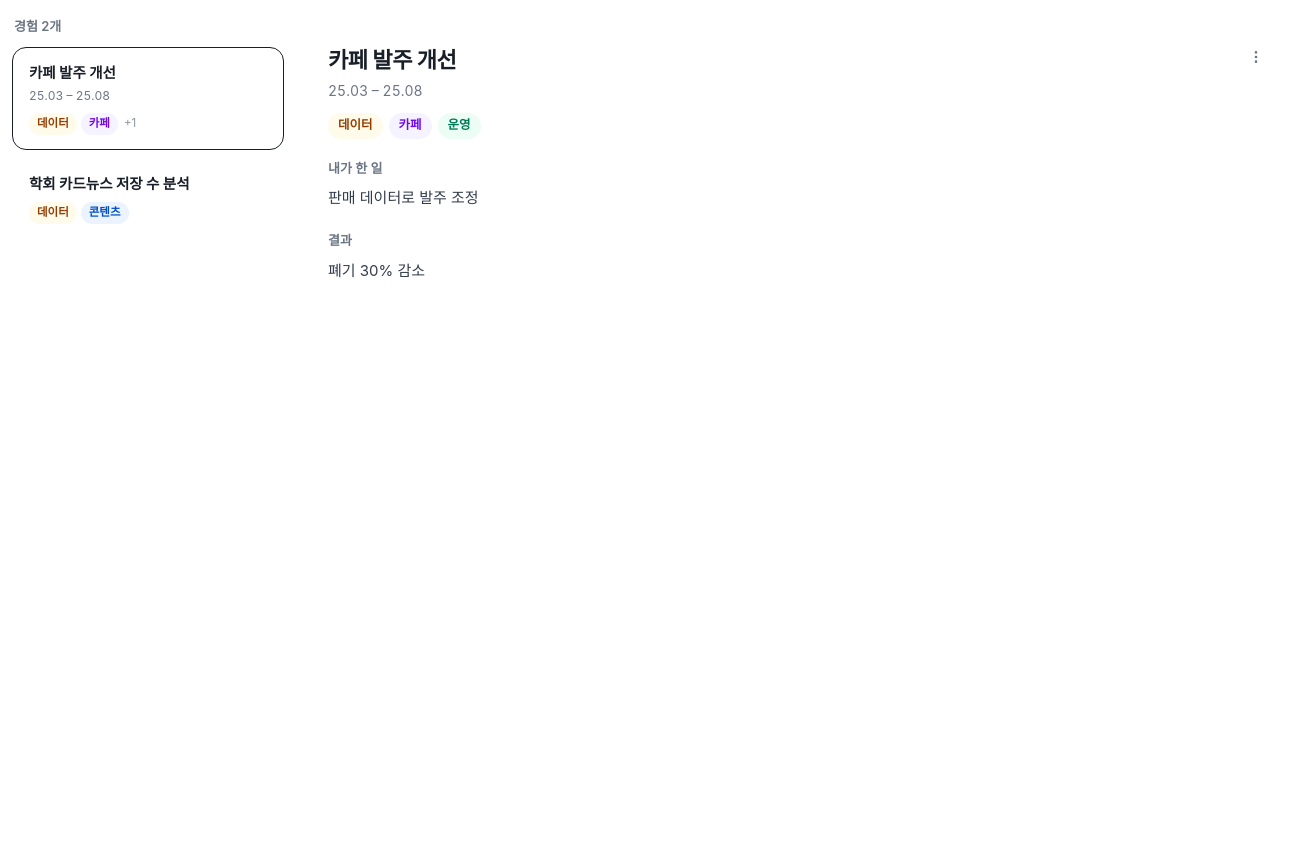
Test case: 내 경험 › 칸으로 쓴 경험을 고치면 칸으로, 자유 글로 쓴 경험은 자유 양식으로 열린다
The image size is (1304, 855).
Click the button named "카페 발주 개선 더보기" at (1256,57), box [1240,41,1272,73]
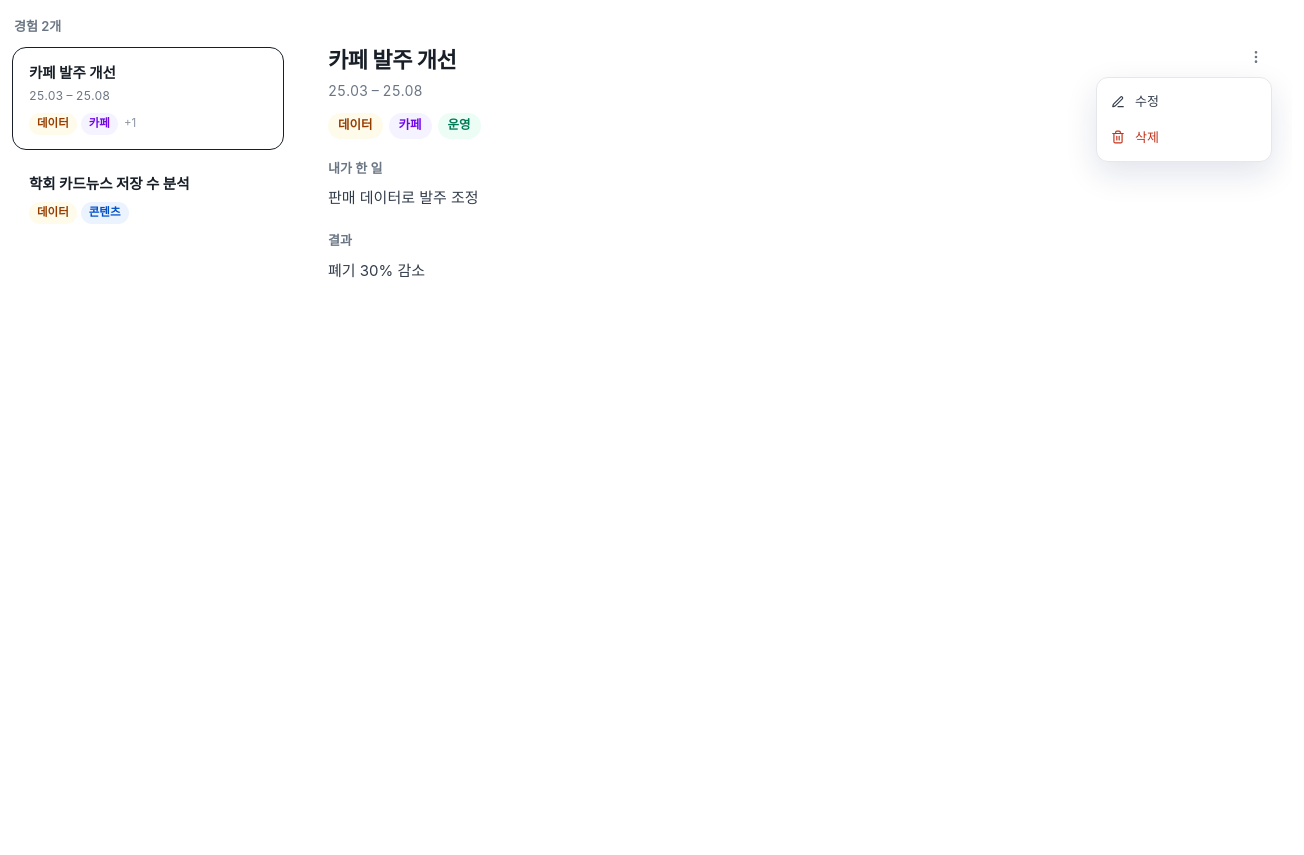
Click the button "수정" at (1184,102), box [1097,84,1271,120]
(page scrolled)
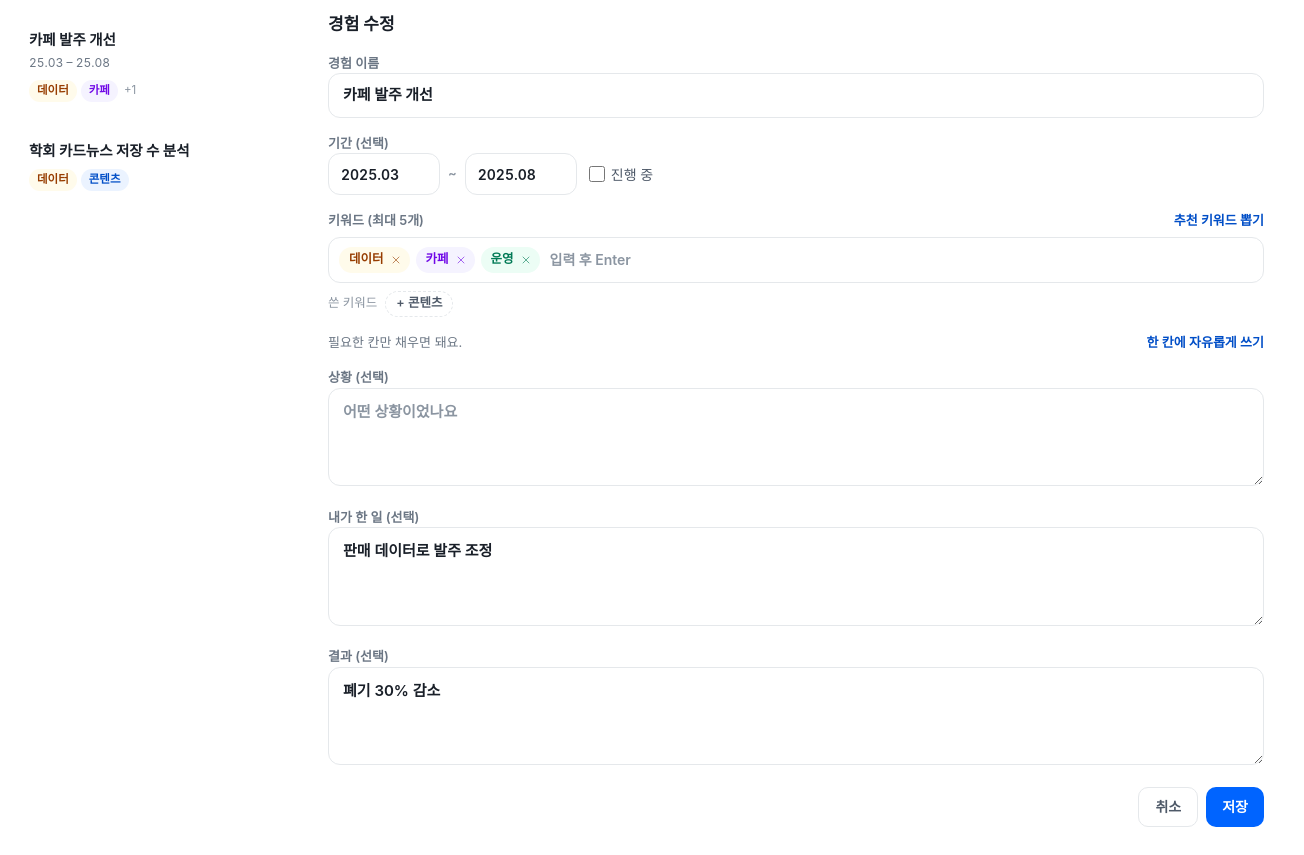
Result: the text box named "나는 무엇을 판단하고 했나요" holds "판매 데이터로 발주 조정" at [328,527,1264,626]
Click the button "취소" at (1168,806), box [1138,786,1198,826]
(page scrolled)
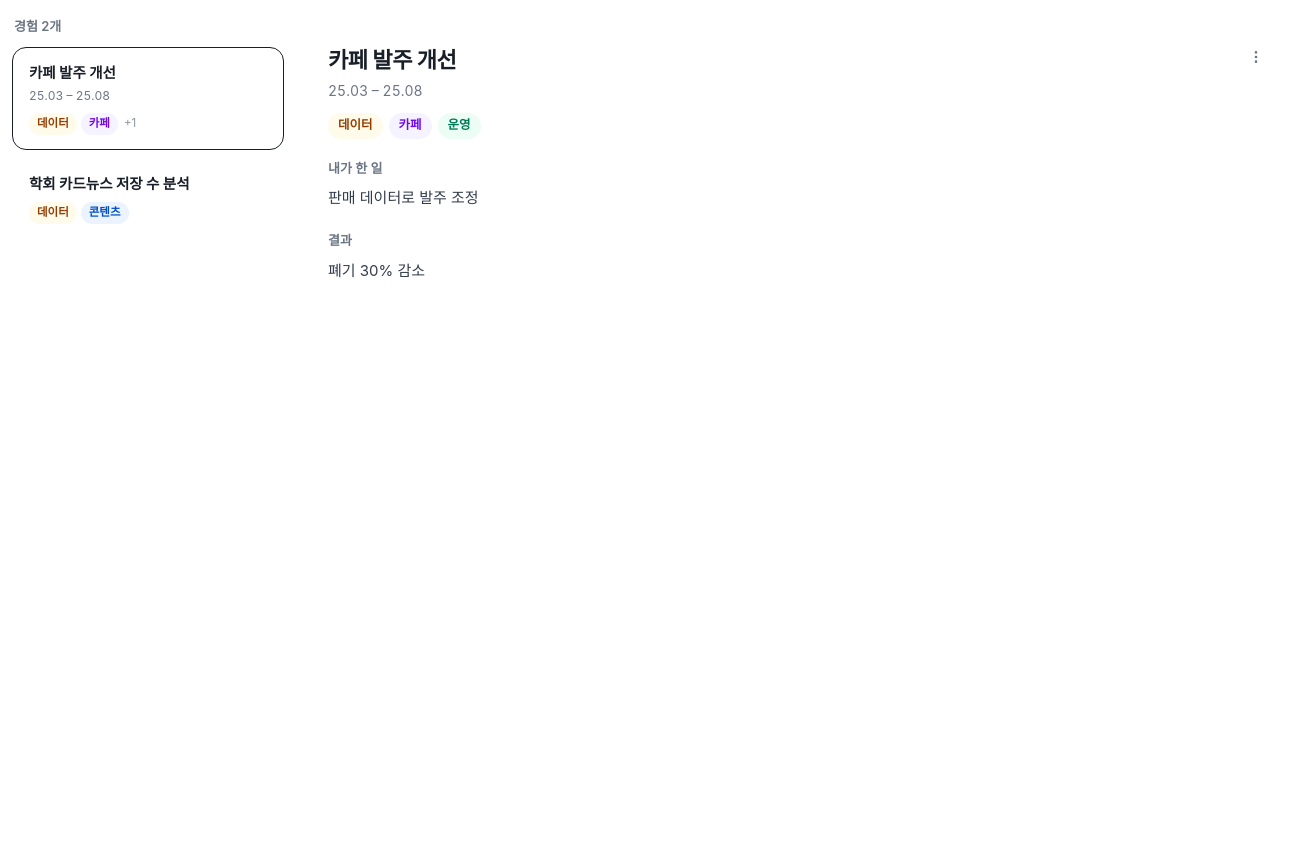
Click the button "학회 카드뉴스 저장 수 분석 데이터 콘텐츠" at (109,183), box [12,158,284,238]
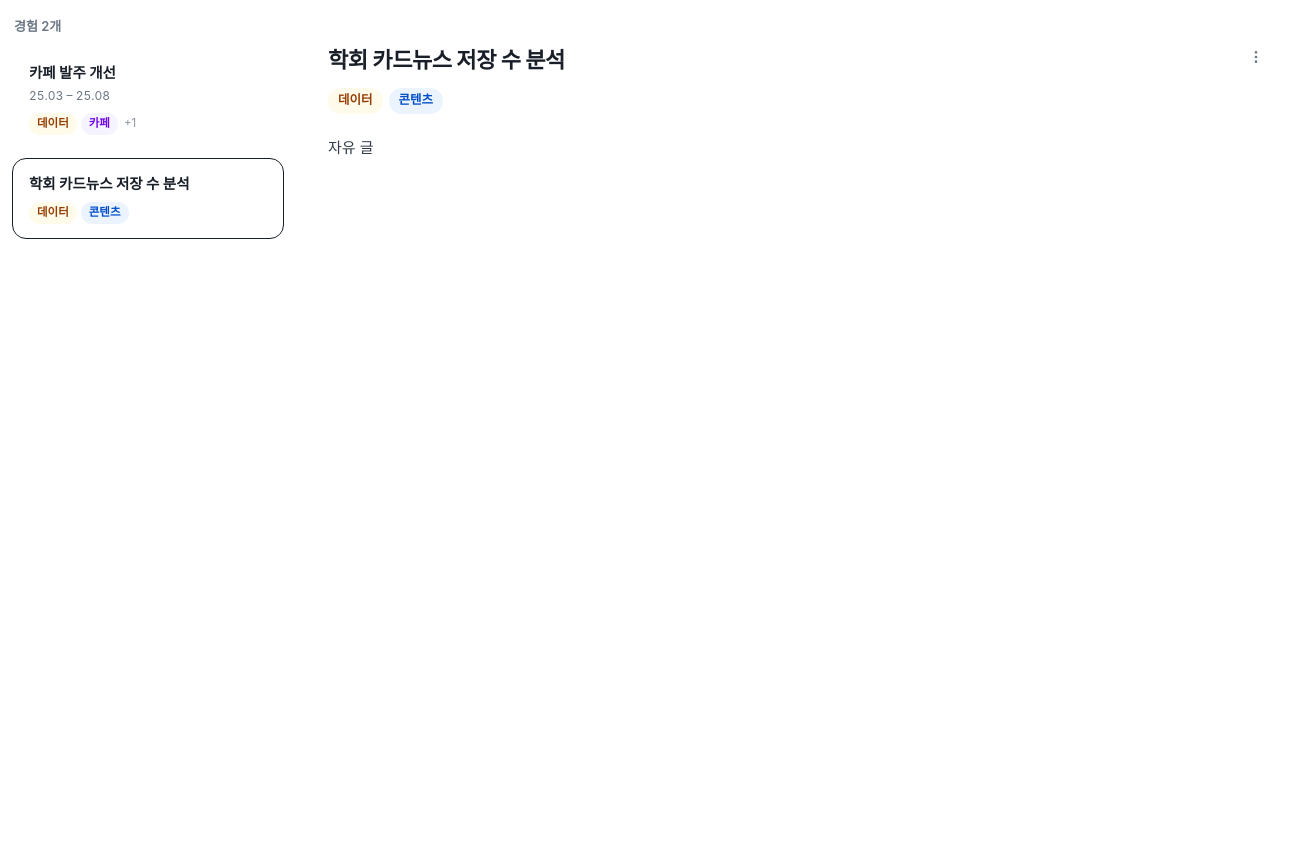
Result: the text "자유 글" is shown at [328,138,374,157]
Click the button named "학회 카드뉴스 저장 수 분석 더보기" at (1256,57), box [1240,41,1272,73]
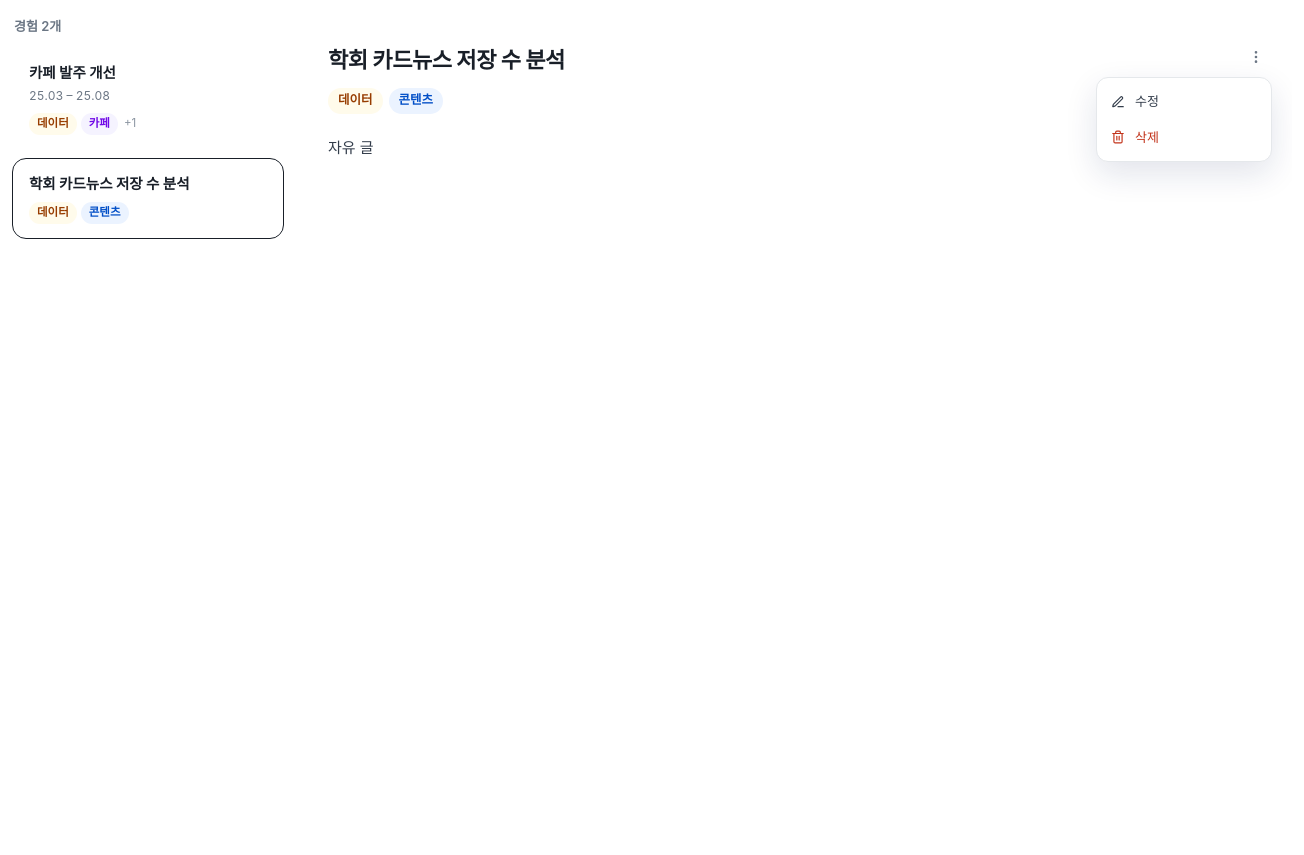
Click the button "수정" at (1184,102), box [1097,84,1271,120]
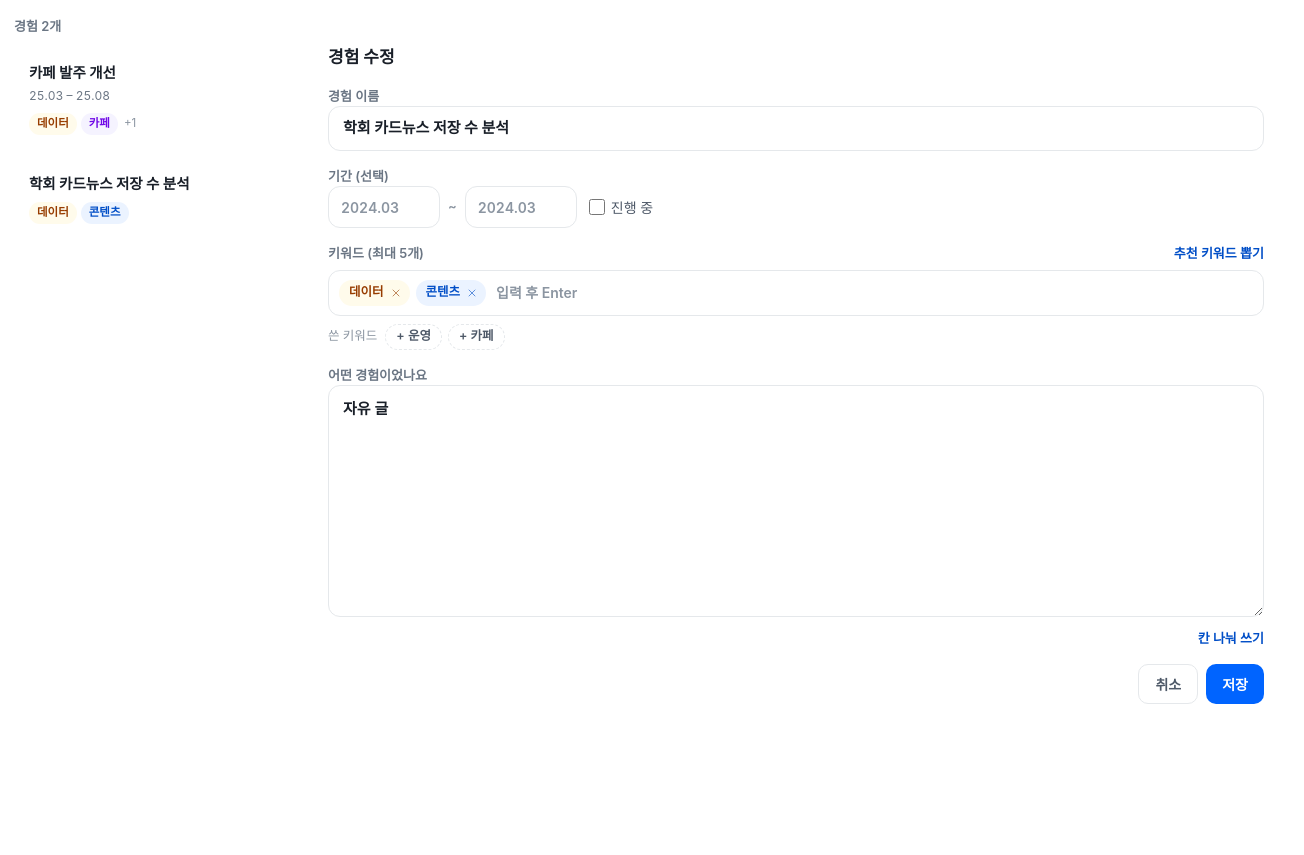
Result: the text box labelled "어떤 경험이었나요" holds "자유 글" at [328,385,1264,617]
